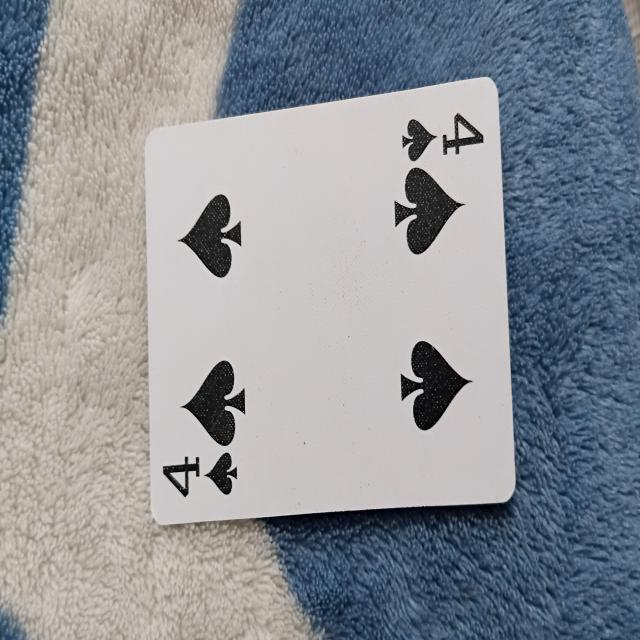4S: (143, 84, 514, 522)
